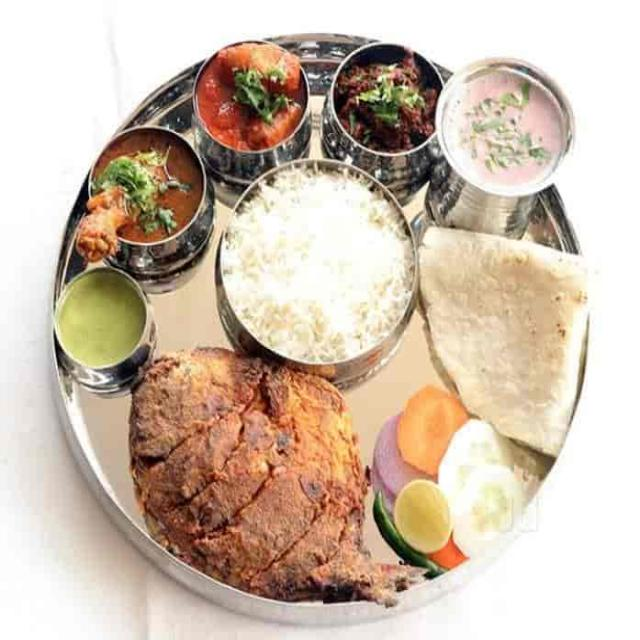non veg meals: (48, 29, 603, 616)
